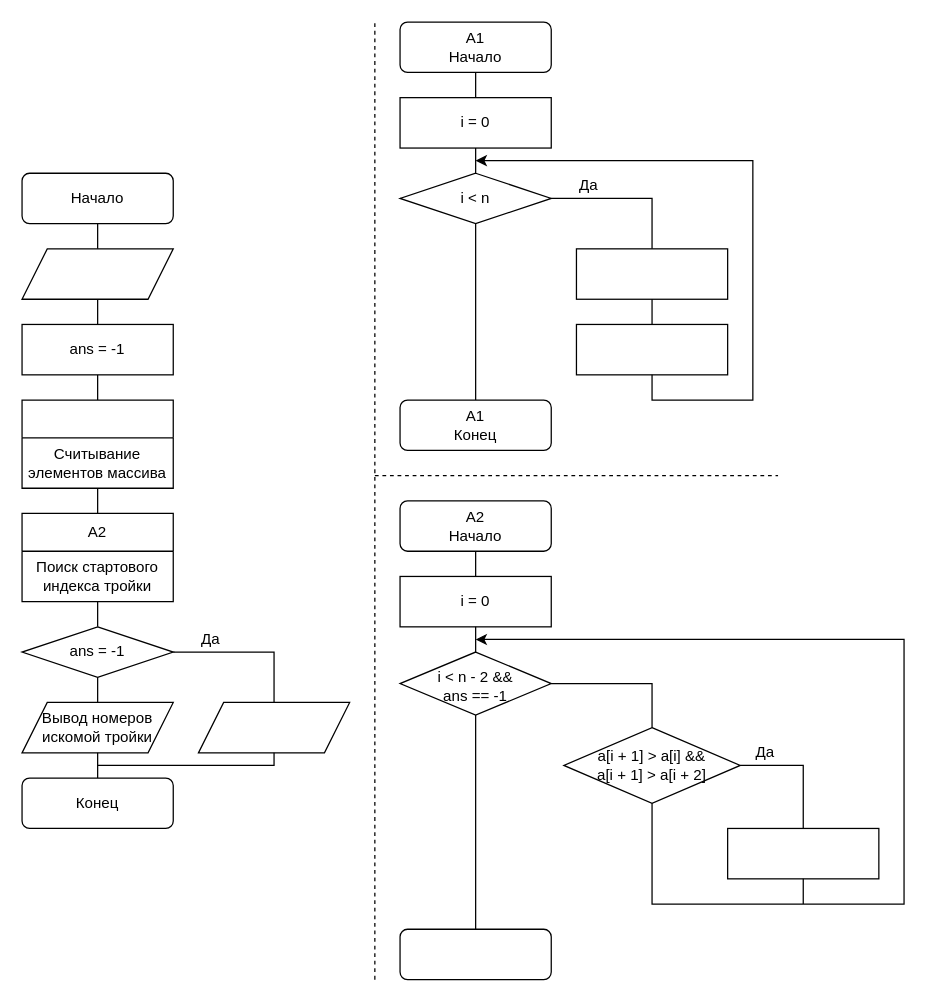
Image size: 936x1003. Some labels were removed from this diagram. The shapes that lost their labels are listed below. From the top down, each one's box as (x1, y1, x2, y2) in pixels, then its label:
(21, 248, 173, 299): Ввод числа n
(575, 248, 728, 299): Ввод a[i]
(575, 323, 728, 375): i = i + 1
(21, 399, 173, 488): A1
(197, 701, 350, 753): Вывод "Three not found"
(726, 827, 879, 879): ans = i
(399, 928, 551, 980): A2 Конец
